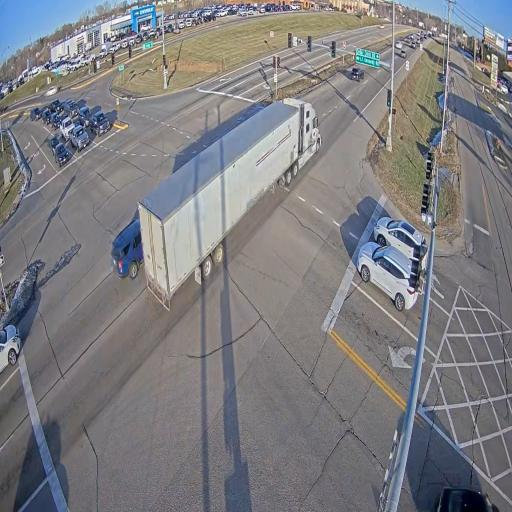pickup: (70, 125, 90, 152), (90, 111, 110, 136), (60, 116, 75, 141), (64, 99, 78, 120), (51, 100, 63, 113)
sedan: (437, 487, 489, 512), (48, 135, 59, 154), (351, 68, 364, 82), (45, 86, 57, 96), (398, 49, 407, 58), (395, 41, 402, 49)
suv: (357, 241, 418, 310), (373, 217, 428, 259), (110, 218, 144, 278), (0, 325, 21, 371), (55, 143, 70, 167), (78, 106, 92, 128), (50, 113, 61, 130), (351, 68, 364, 82), (30, 108, 42, 120), (42, 108, 50, 124), (406, 34, 414, 40), (415, 39, 421, 47), (424, 32, 427, 39), (411, 42, 415, 47), (421, 31, 423, 36)
truck: (138, 98, 322, 310)
